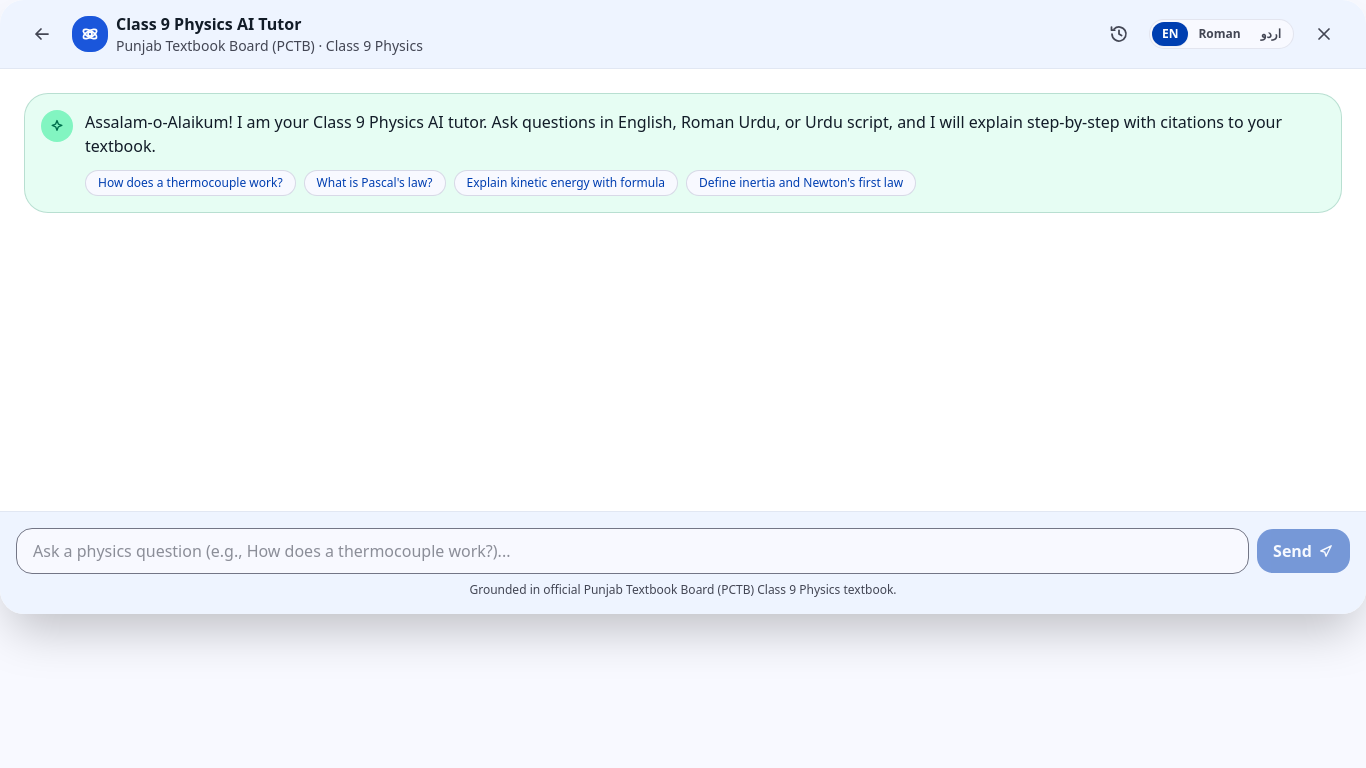
Test: PhysicsChatView › clicking a quick prompt chip sends the message immediately
Note: Click chip 1 ("How does a thermocouple work?")
Click the button "How does a thermocouple work?" at point(190, 183), box [85,170,296,196]
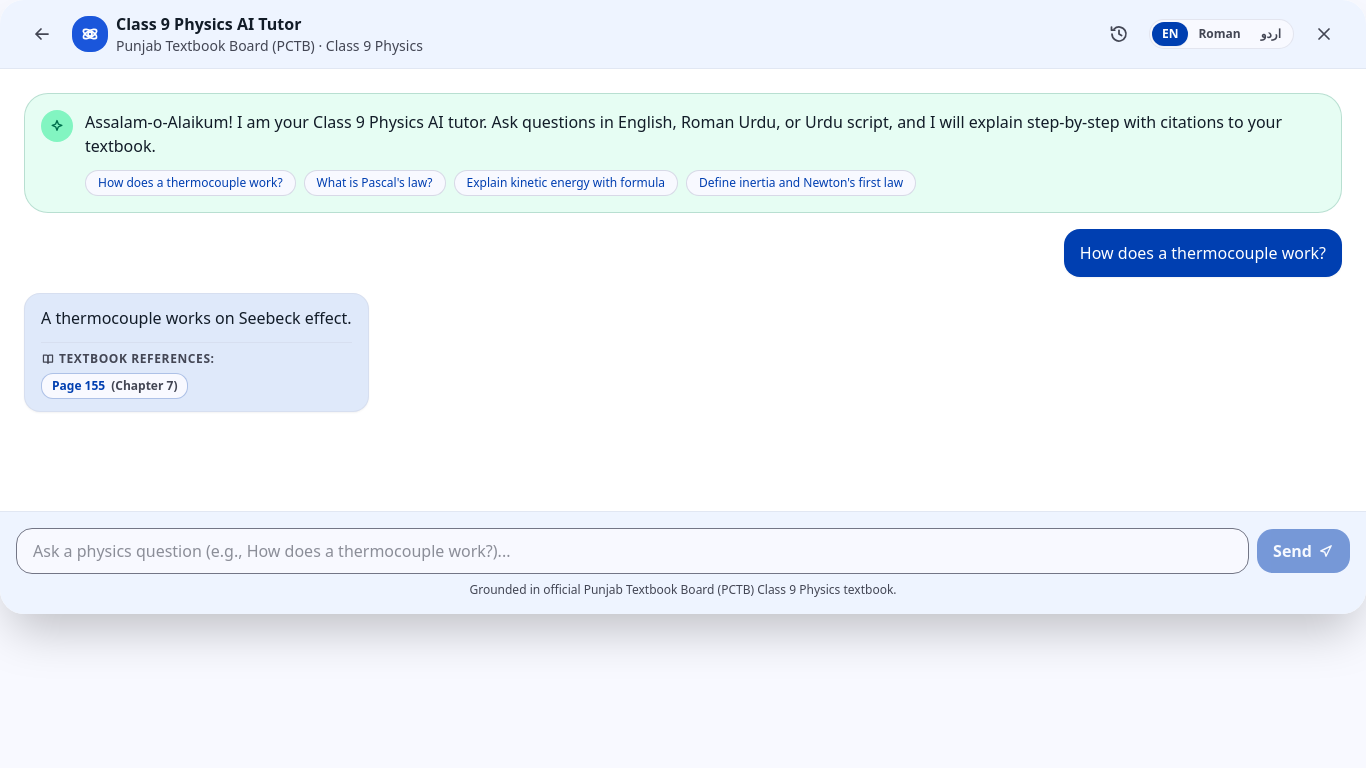
expect the text "A thermocouple works on Seebeck effect." is shown: met, box [41,306,352,330]
expect the text "Page 155" is shown: met, box [52,378,105,394]
